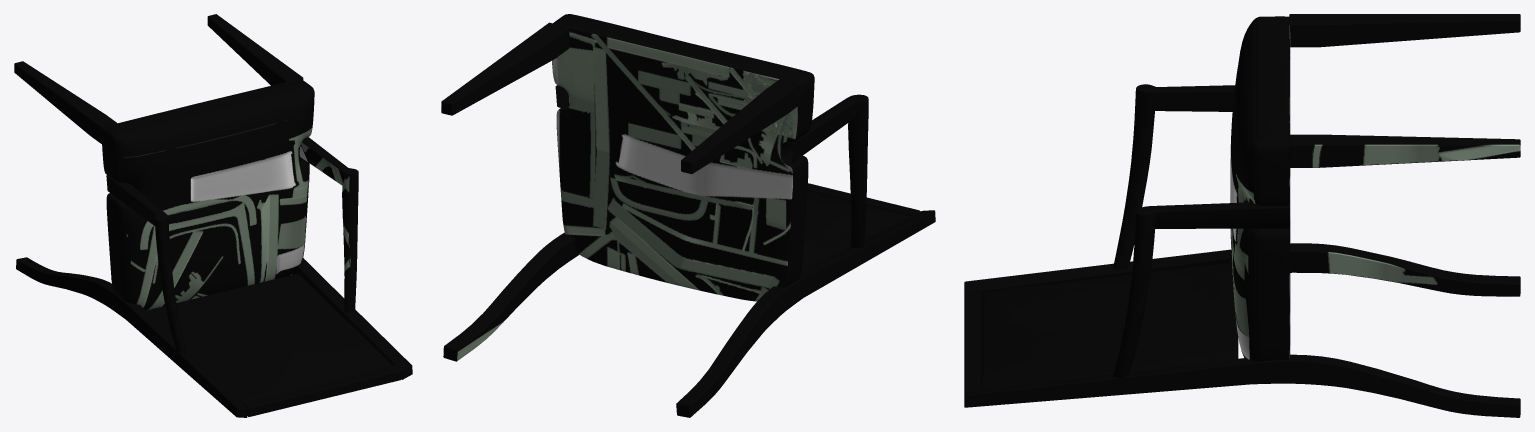
3 views of the same model, side by side, from view 1: azimuth 30°, elevation 25°; view 2: azimuth 150°, elevation 25°; view 3: azimuth 270°, elevation 25° (orthographic). The views are drawn at different scales.
Size of the model in its own units: 0.5455 by 0.5338 by 0.9769.
